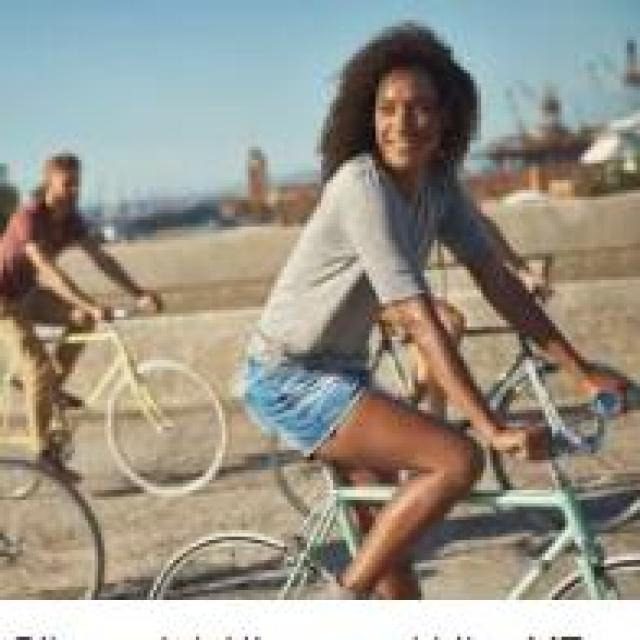bicycle: (167, 444, 640, 607), (3, 308, 229, 498)
